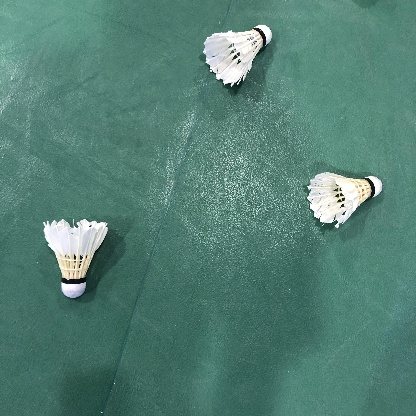ball_single: (44, 219, 108, 298), (203, 25, 272, 87), (307, 172, 382, 228)
